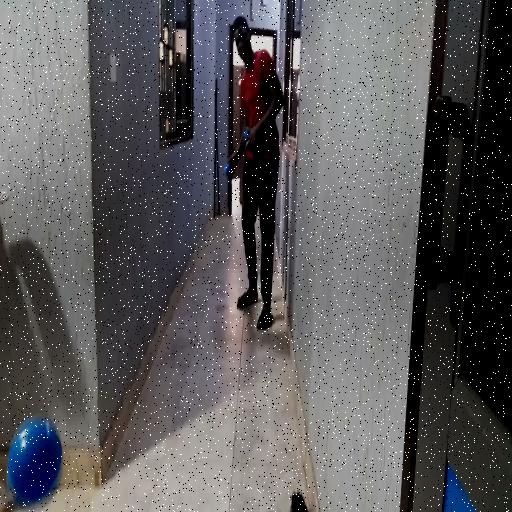plastic-ball: (6, 415, 64, 502)
